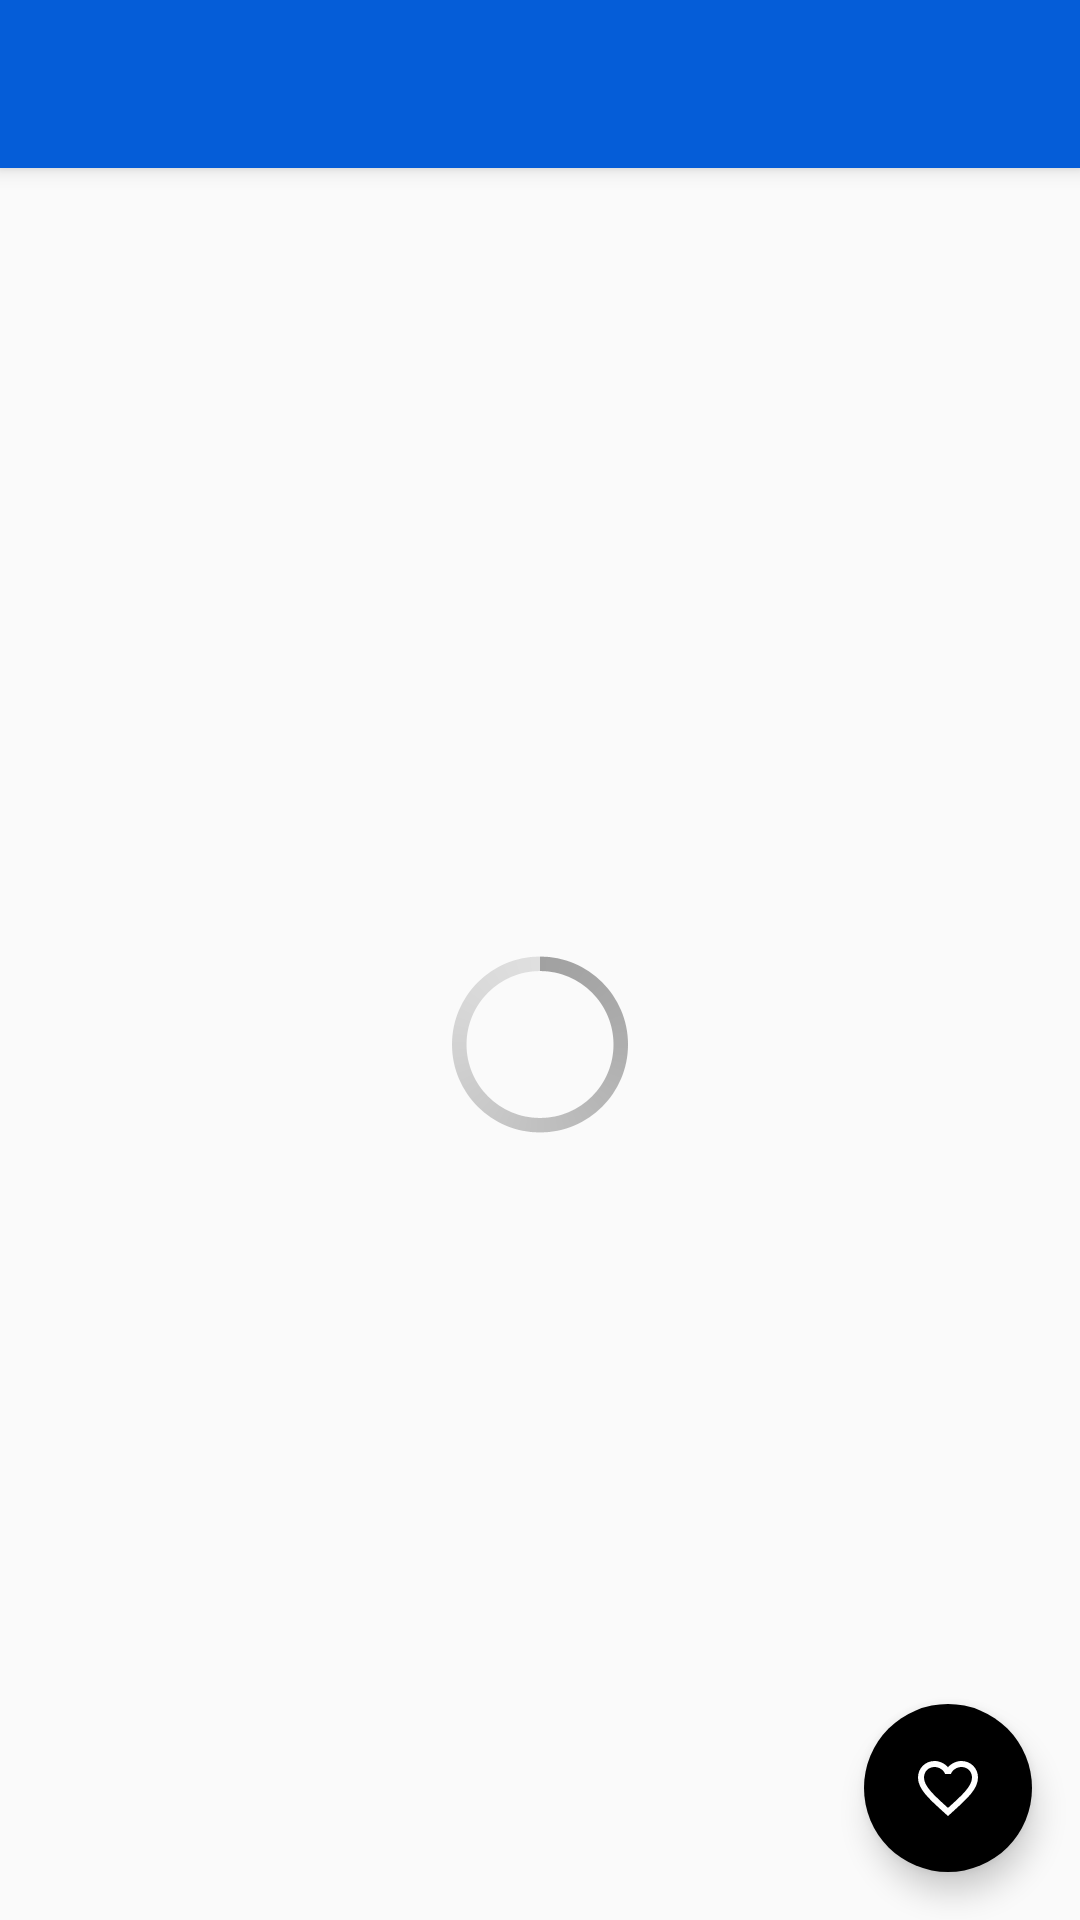

Named icons in this screenshot (1080x1920) and their bounding boxes, (x1, y1, x2, y2):
fav: (864, 1704, 1032, 1872)
